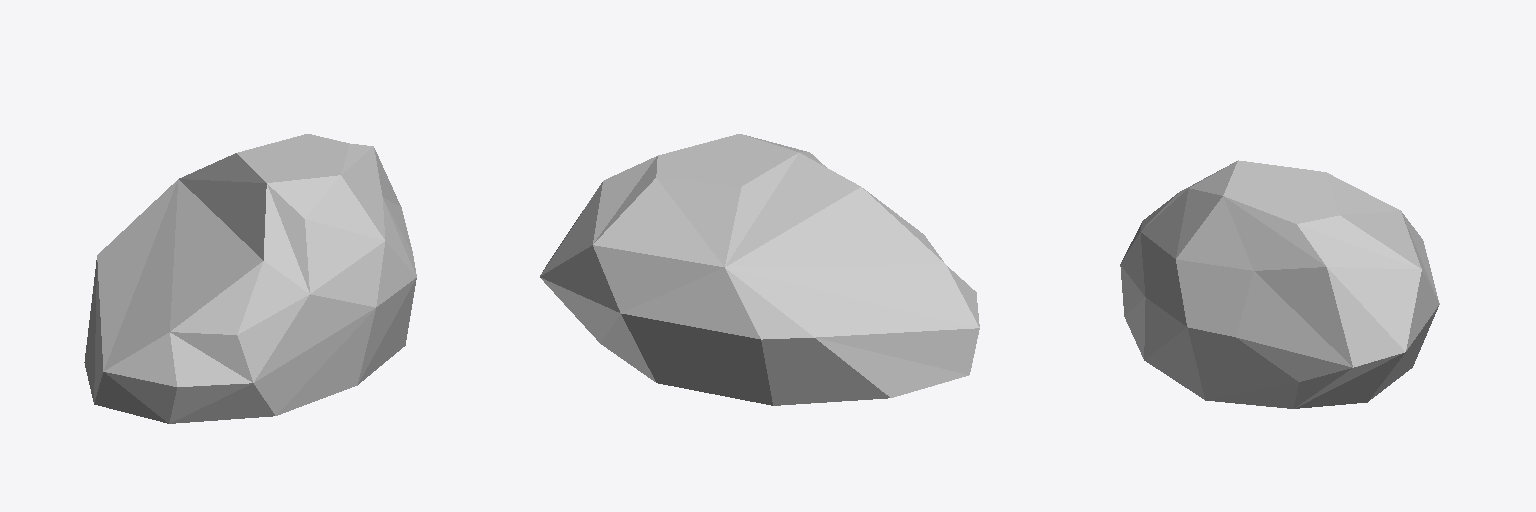
File: Stone.obj
The picture shows the model from 3 angles: view 1: azimuth 30°, elevation 25°; view 2: azimuth 150°, elevation 25°; view 3: azimuth 270°, elevation 25°; orthographic projection.
Visible parts, largest first — view 1: Stone; view 2: Stone; view 3: Stone.
Part boxes in pixels (bbox=[...]): Stone: bbox=[84, 134, 416, 423]; Stone: bbox=[540, 134, 979, 405]; Stone: bbox=[1120, 160, 1439, 408].
Size of the model in its own units: 1.06 by 0.506 by 0.808.